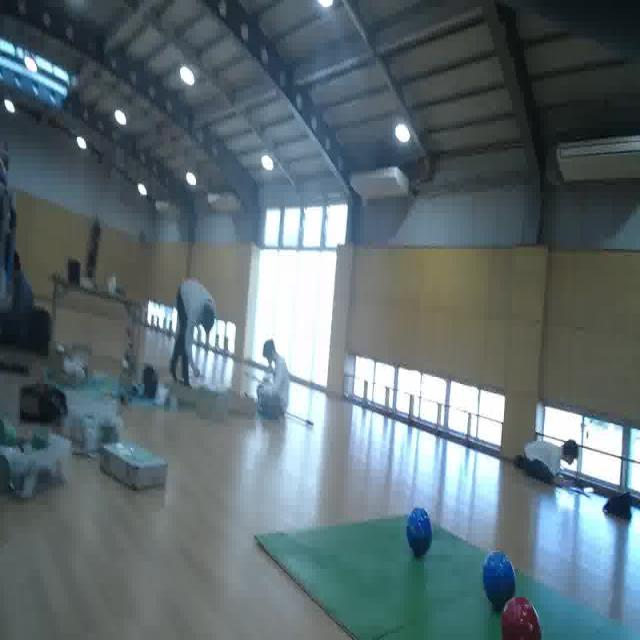blue_ball: (478, 549, 519, 612), (405, 505, 433, 558)
red_ball: (498, 593, 544, 640)
